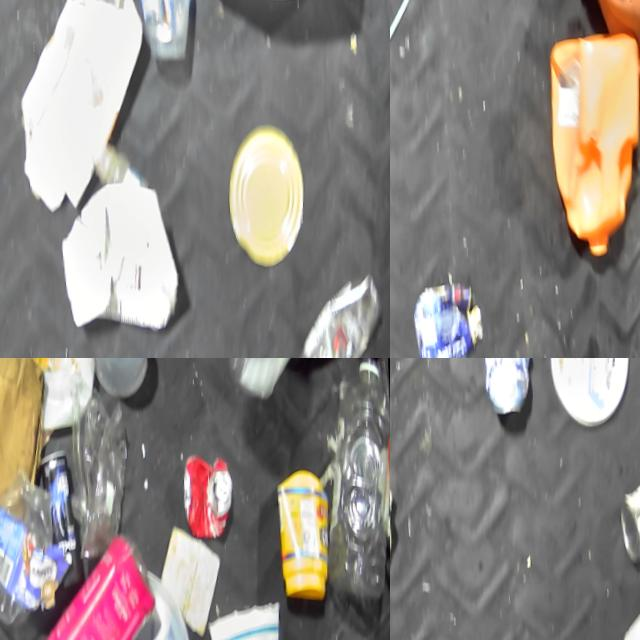can: (37, 444, 86, 583), (411, 275, 488, 358), (177, 447, 237, 544), (617, 455, 640, 570)
non_white_jug: (543, 30, 640, 284), (12, 541, 165, 640)
plastic_bottle: (323, 358, 390, 604)
